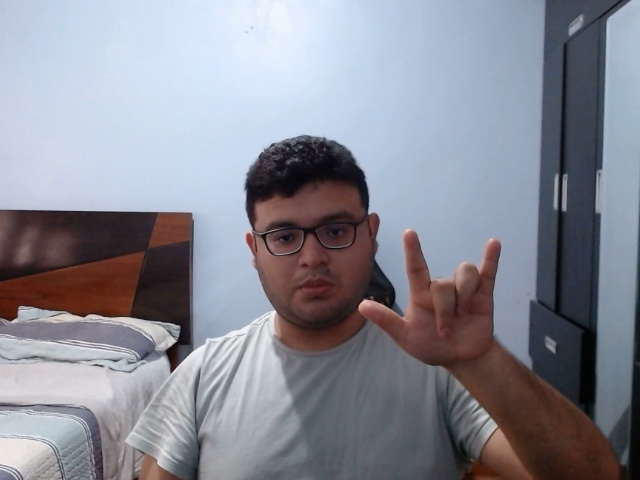I love you: (356, 227, 502, 372)
